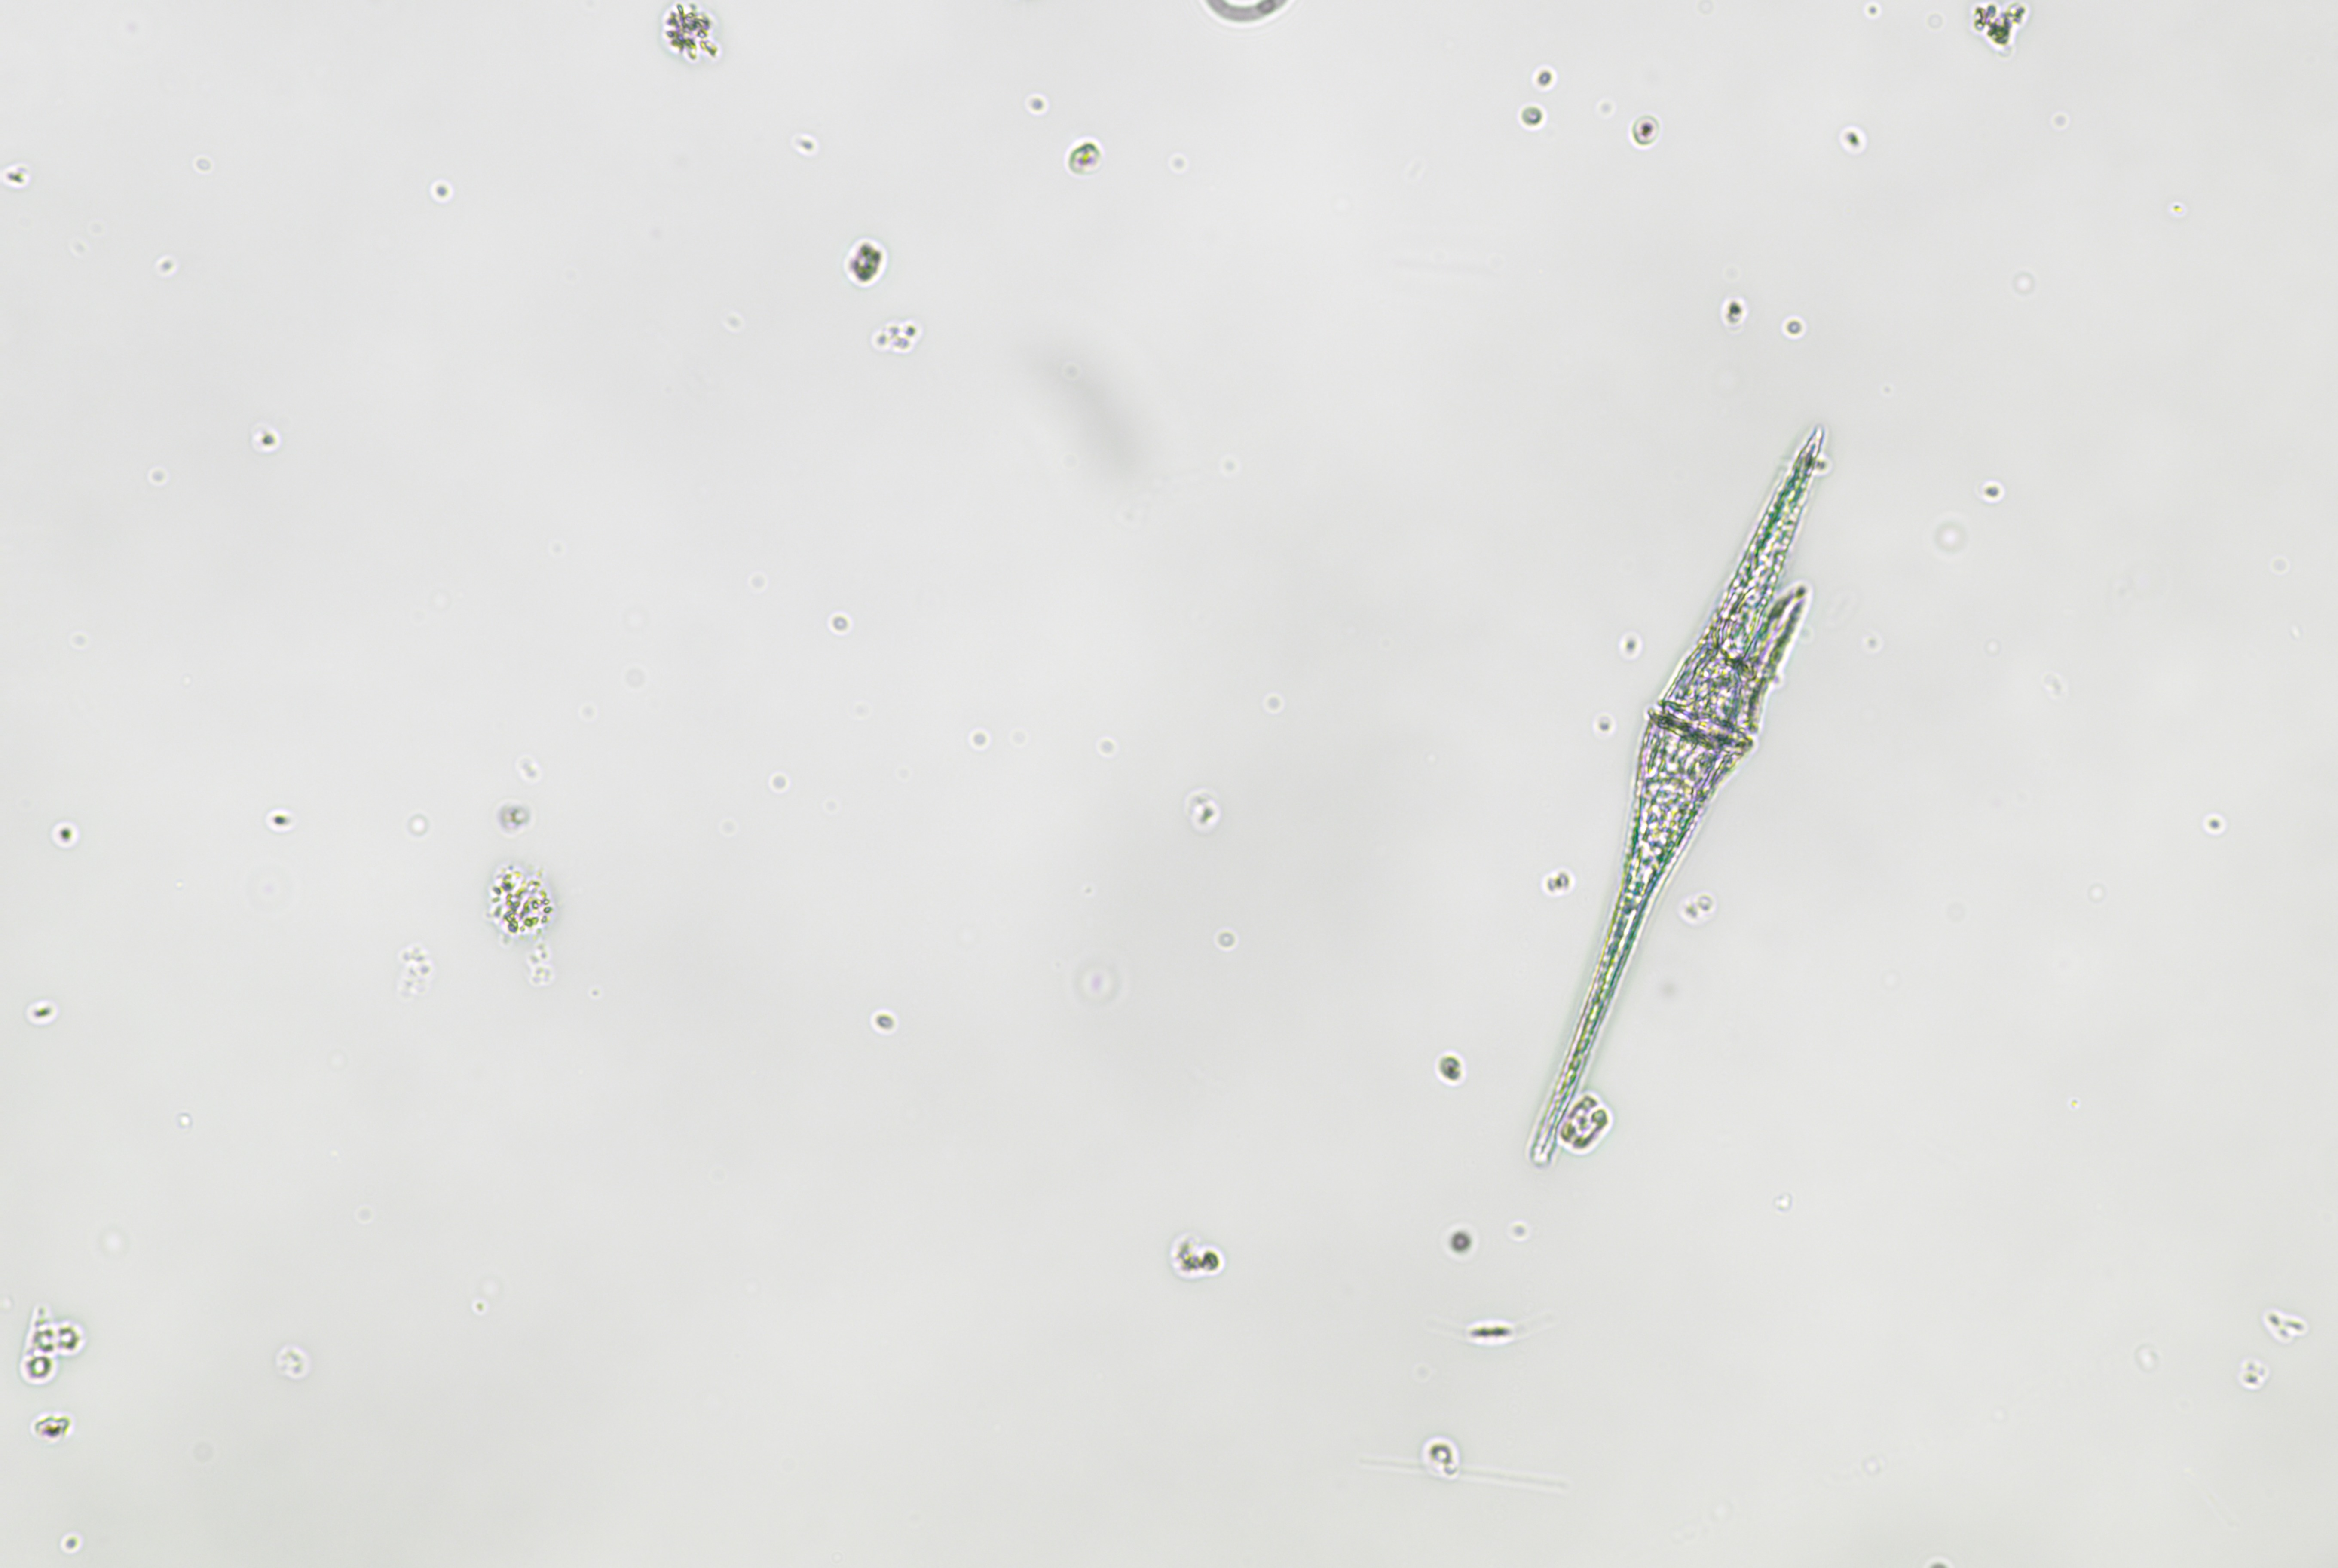ceratium furca: (1523, 408, 1845, 1181)
